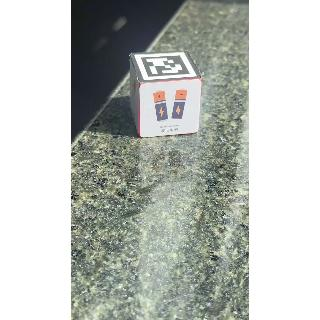Used_Battery: (141, 81, 206, 142)
